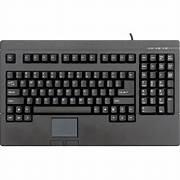keyboard: (0, 38, 179, 146)
